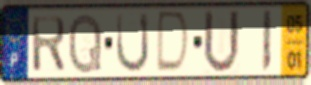D: (154, 9, 192, 76)
I: (260, 8, 274, 74)
Q: (66, 11, 104, 76)
R: (30, 14, 68, 75)
U: (201, 8, 242, 77), (114, 10, 151, 75)
